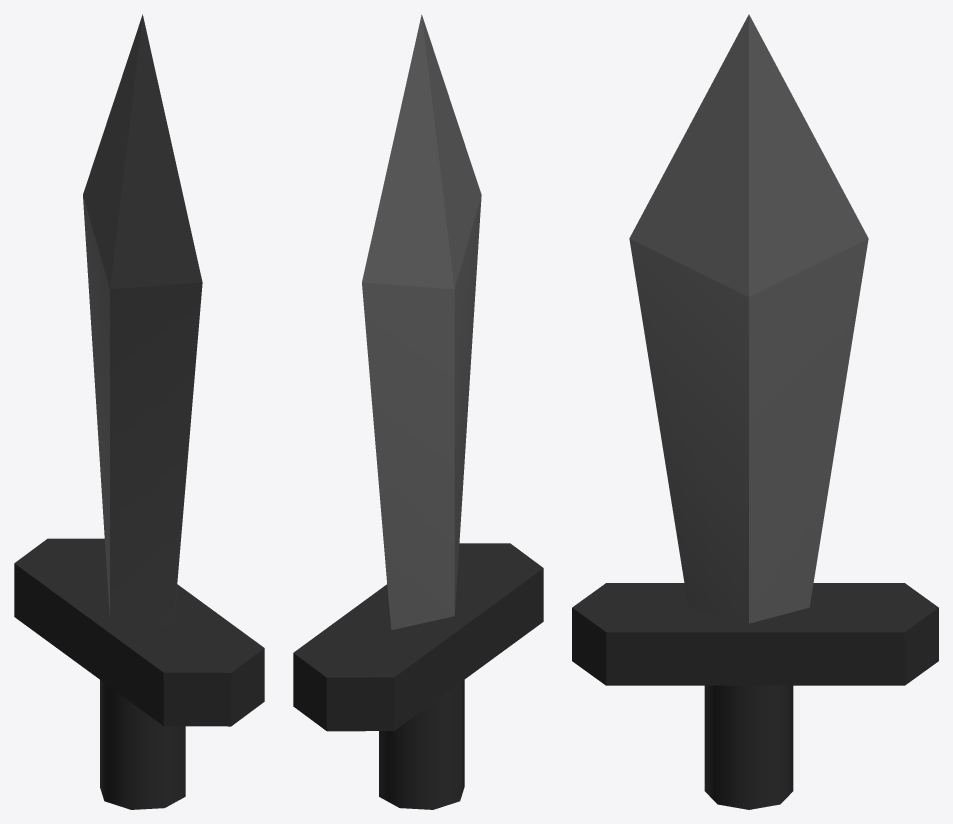
Rendered from SM_sword.FBX.
3 views of the same model, side by side, from view 1: azimuth 30°, elevation 25°; view 2: azimuth 150°, elevation 25°; view 3: azimuth 270°, elevation 25° (orthographic).
Parts seen in each view (by area): view 1: Box003; view 2: Box003; view 3: Box003.
Boxes of the visible parts, x1=… form: Box003: x1=14, y1=14, x2=264, y2=809; Box003: x1=293, y1=14, x2=543, y2=809; Box003: x1=572, y1=14, x2=938, y2=809.
Size of the model in its own units: 5.91 by 43.49 by 18.6.
